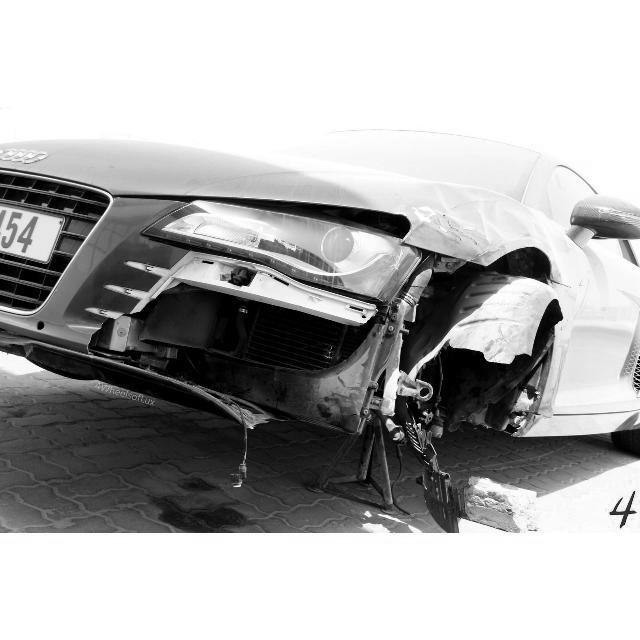front-bumper-dent: (119, 208, 533, 453)
